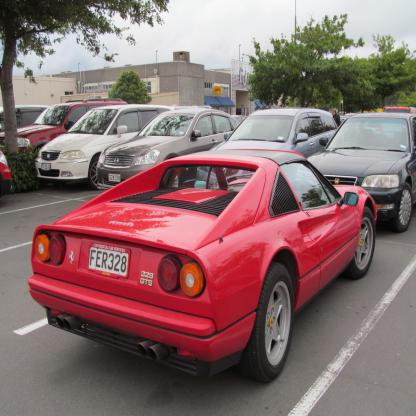Car: (0, 96, 416, 383)
